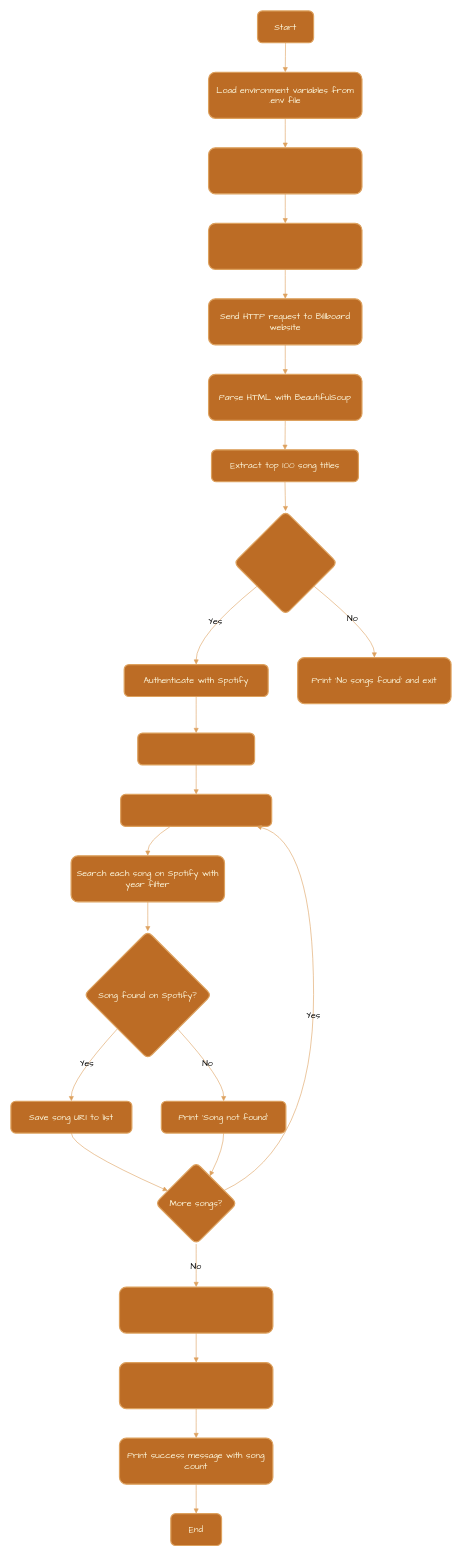
This 461x1556 diagram has some shape labels left out. Here are the shapes that lost their labels. From the top down, the centre of each, then its label:
the point at 285,170: Ask user to enter a date in YYYY-MM-DD format
the point at 285,246: Create Billboard URL using the date
the point at 285,562: Any songs found?
the point at 196,748: Get current user ID
the point at 196,810: Loop through all song titles
the point at 196,1309: Create private Spotify playlist
the point at 196,1385: Add found songs to the playlist
